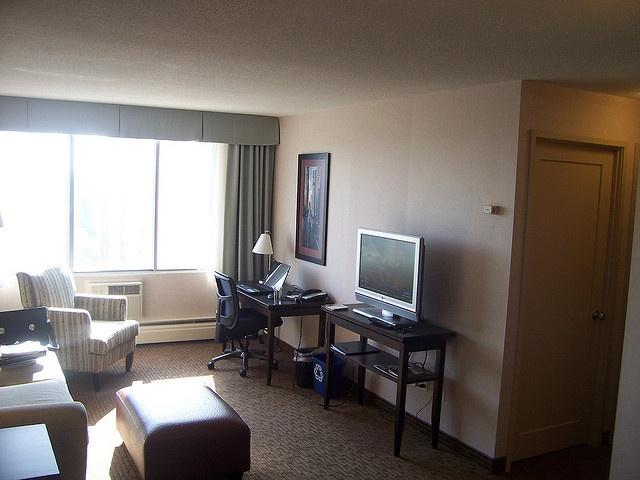AIO PC-Monitor-TV: (353, 227, 425, 322)
Meja: (321, 301, 456, 454), (205, 270, 267, 377), (231, 279, 326, 333)
